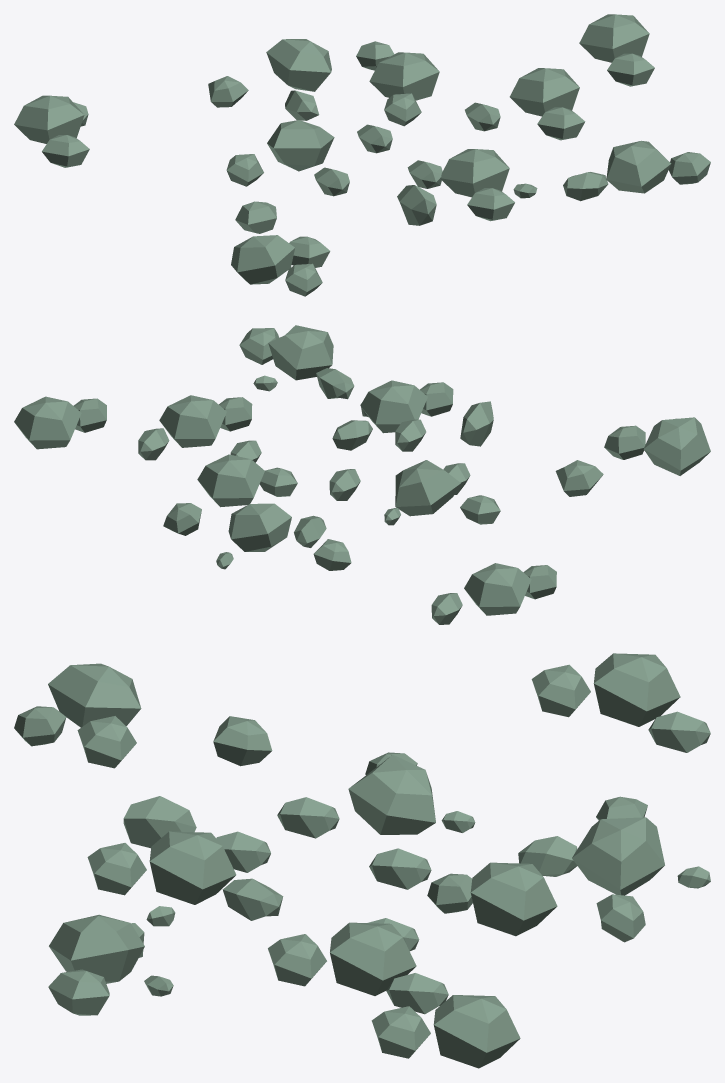
Rendered from SM_Tile_Rock.fbx.
3 views of the same model, one above another, from view 1: azimuth 30°, elevation 25°; view 2: azimuth 150°, elevation 25°; view 3: azimuth 270°, elevation 25° (orthographic). The views are drawn at different scales.
Visible parts, largest first — view 1: SM_Rock; view 2: SM_Rock; view 3: SM_Rock.
Part boxes in pixels (x1,y1,x2,y2): SM_Rock: (14,14,710,296); SM_Rock: (14,325,710,624); SM_Rock: (14,653,710,1068).
Bounding box in the file's own units: 1.14 × 0.1033 × 0.8721.
